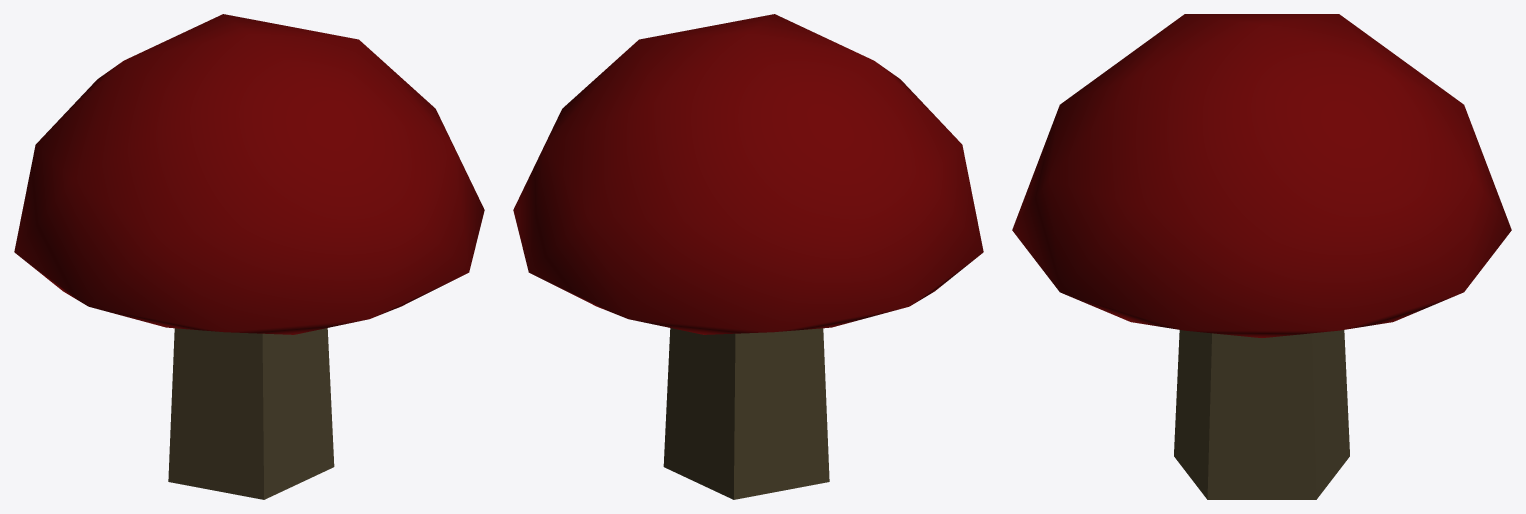
The model's file is mushroom_poisonous_cooked.fbx.
3 renders of one model, left to right at view 1: azimuth 30°, elevation 25°; view 2: azimuth 150°, elevation 25°; view 3: azimuth 270°, elevation 25°, orthographic. The views are drawn at different scales.
Parts seen in each view (by area): view 1: pPlatonic1; view 2: pPlatonic1; view 3: pPlatonic1.
Boxes of the visible parts, left/top/right/bottom form: pPlatonic1: left=14, top=14, right=484, bottom=499; pPlatonic1: left=513, top=14, right=983, bottom=499; pPlatonic1: left=1012, top=14, right=1511, bottom=499.
Bounding box in the file's own units: 29.39 × 30.61 × 30.9.
